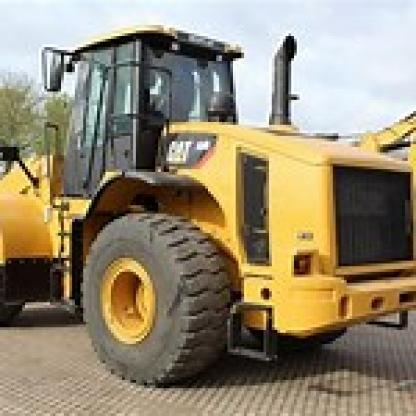bull_dozer/loader/grader: (0, 31, 413, 402)
